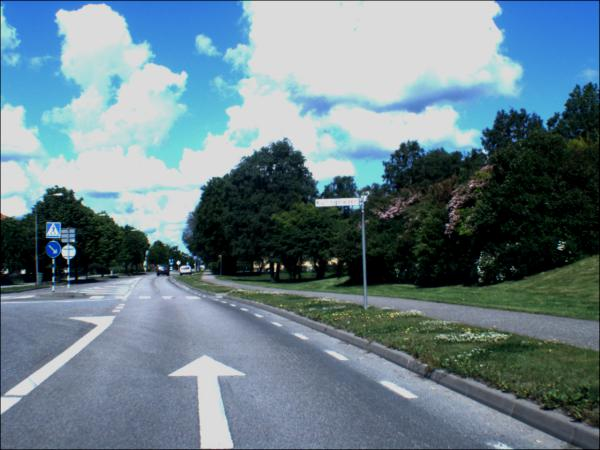PASS_RIGHT_SIDE: (46, 243, 64, 259), (171, 263, 175, 267)
PEDESTRIAN_CROSSING: (47, 223, 63, 240), (171, 259, 175, 264)
PRIORITY_ROAD: (178, 261, 183, 267)
